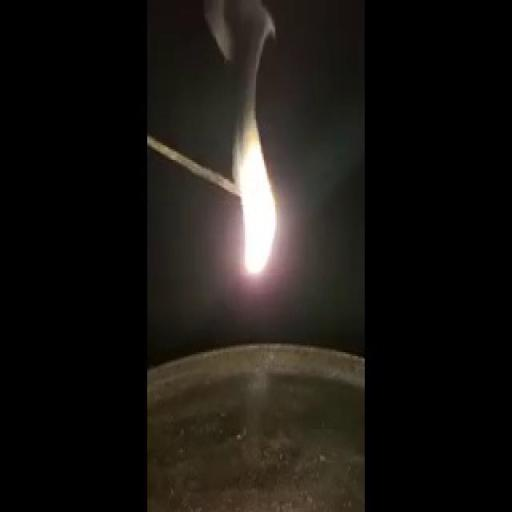smoke: (219, 83, 285, 292)
